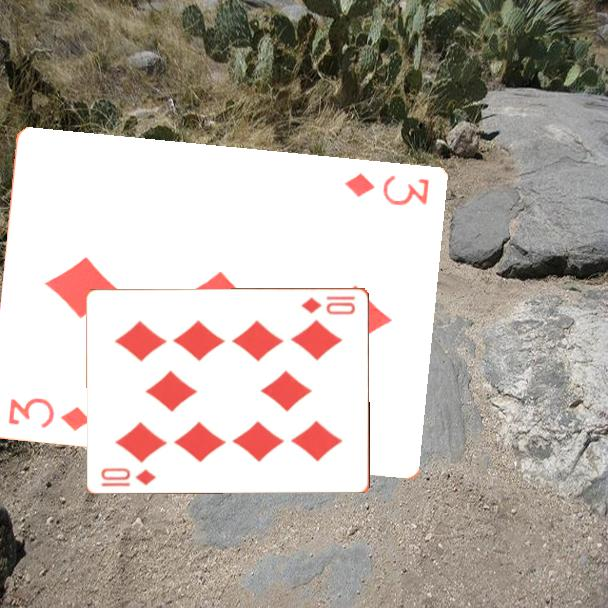d03: (340, 169, 431, 209), (4, 395, 93, 434)
d10: (98, 464, 159, 489), (298, 292, 358, 317)
